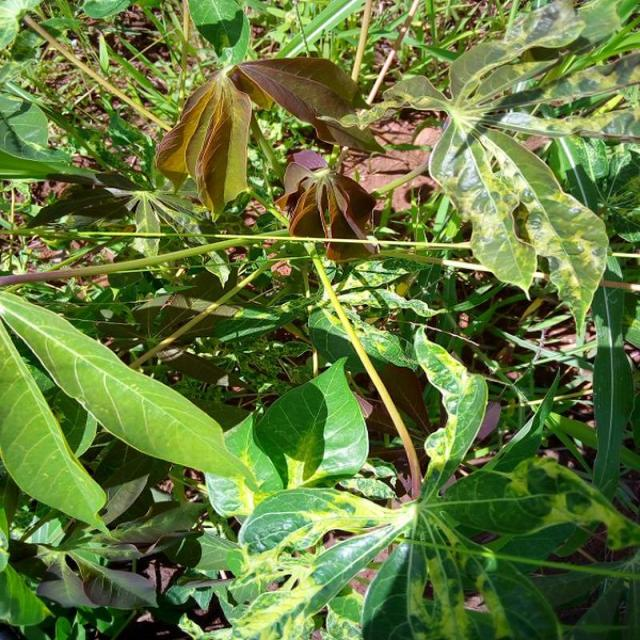cassava leaf: (0, 287, 254, 486), (154, 52, 382, 221), (0, 316, 107, 532), (252, 354, 369, 490)
